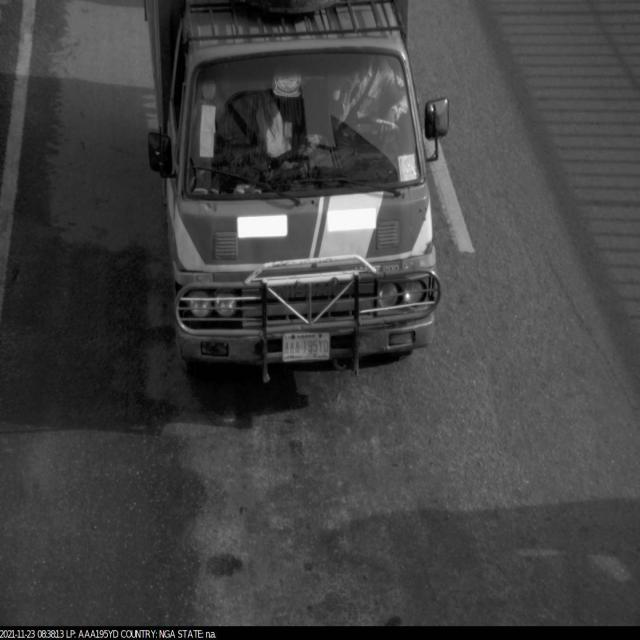windshield: (181, 25, 427, 222)
